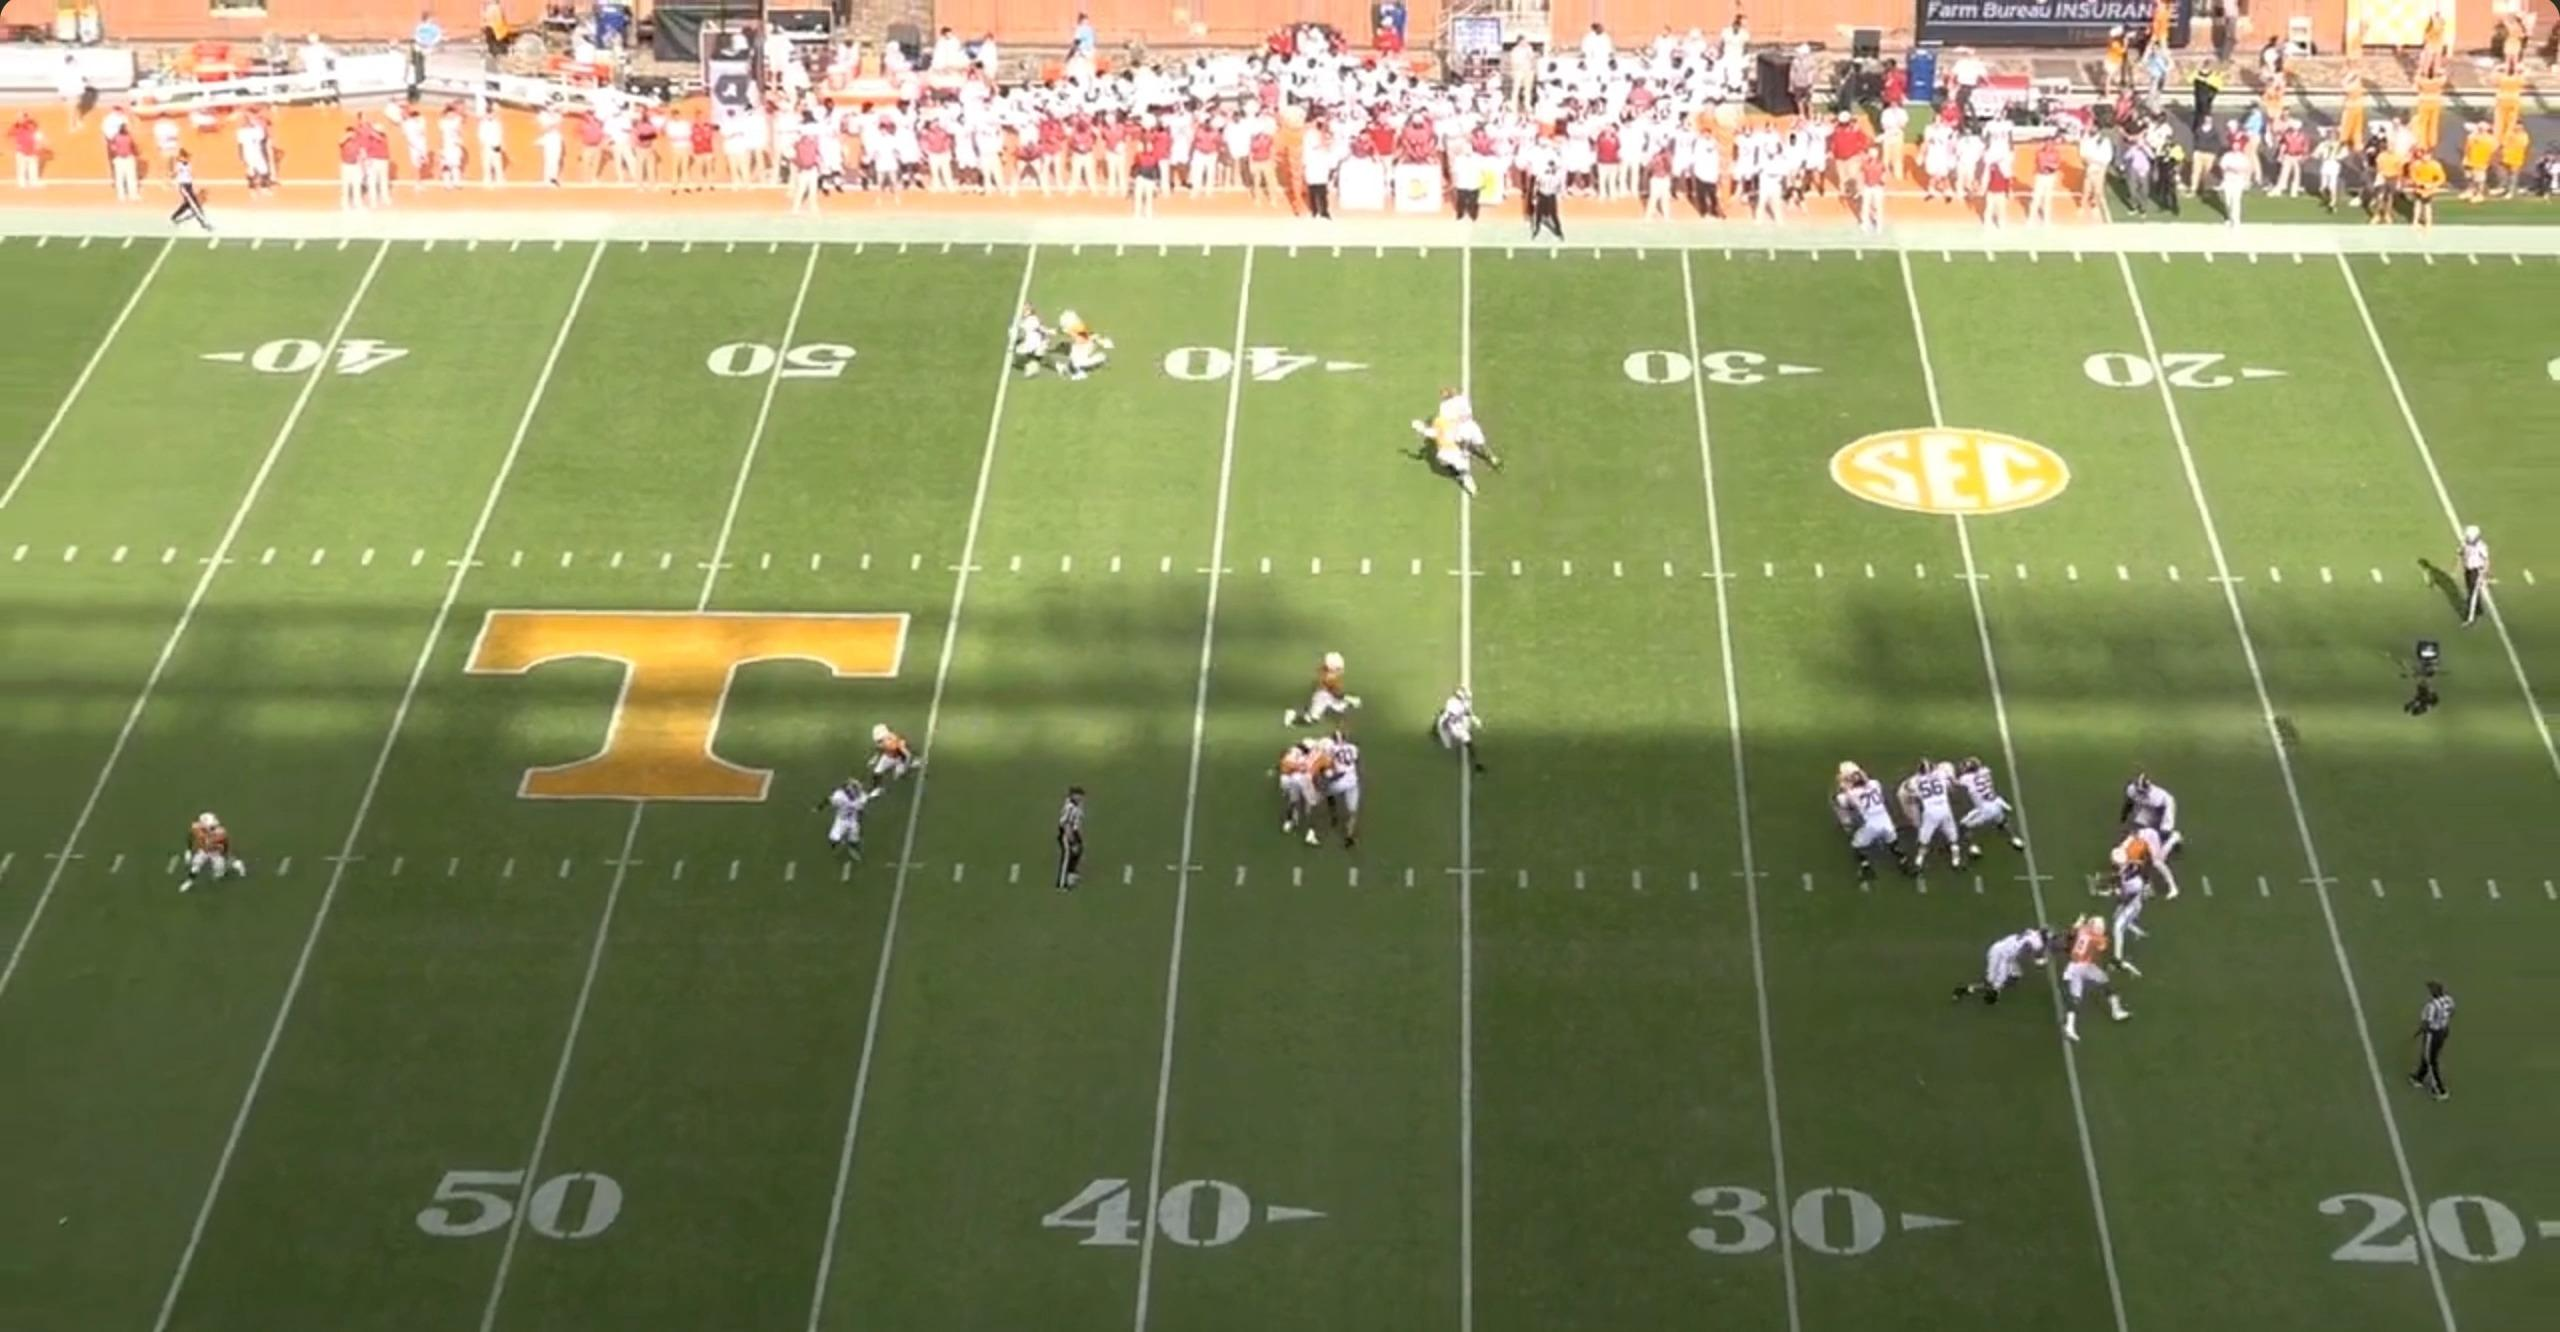player: (1952, 916, 2066, 1009), (2050, 908, 2127, 1040), (1952, 759, 2033, 863), (1844, 768, 1913, 887), (1899, 771, 1970, 882), (1822, 754, 1884, 867), (1432, 383, 1507, 474), (2104, 821, 2188, 902), (2104, 848, 2157, 971), (178, 804, 248, 897), (1281, 735, 1339, 847), (1316, 728, 1366, 853), (1292, 649, 1366, 730), (2120, 768, 2187, 856), (1891, 758, 1964, 832), (1421, 415, 1487, 494), (820, 776, 870, 876), (1427, 686, 1483, 775), (1050, 308, 1114, 385), (864, 719, 920, 805), (1268, 732, 1316, 829), (1005, 305, 1062, 381)
ref: (2400, 980, 2456, 1107), (1050, 781, 1095, 900), (2453, 524, 2500, 630), (162, 149, 220, 232), (1526, 157, 1576, 246)
